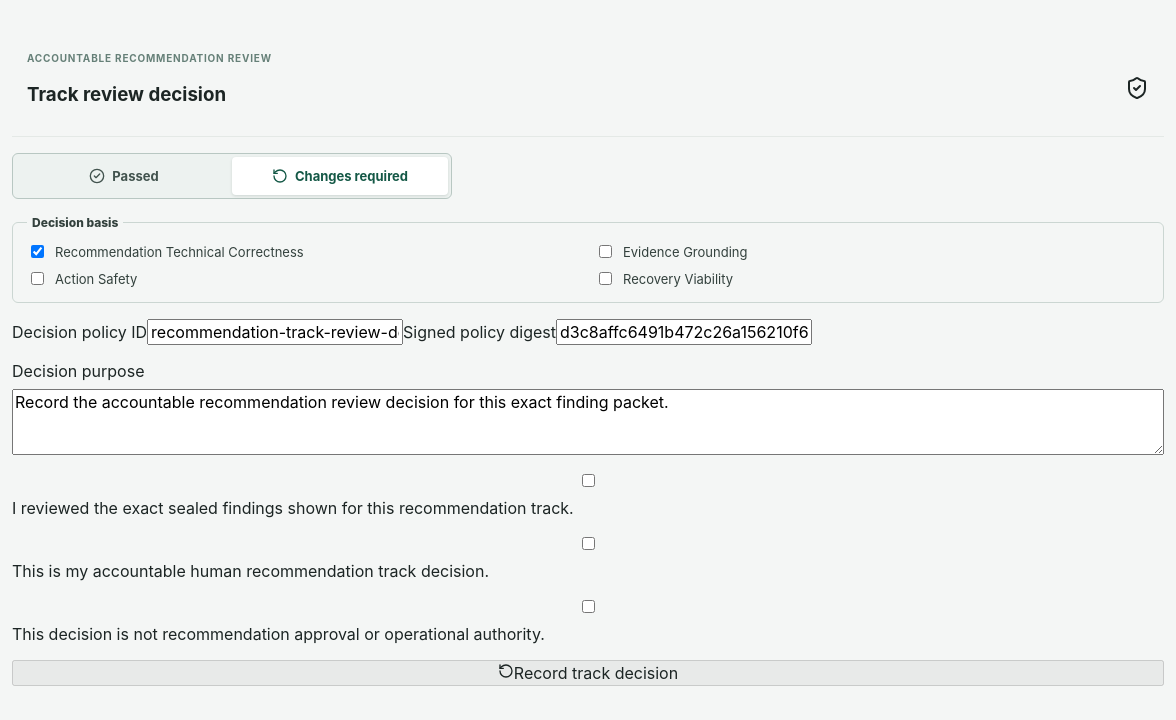
it: RecommendationReviewDecisionPanel › records an accountable recommendation track decision without downstream authority
Step 1. Click the button "Passed" → coordinates (124, 176), box [16,157,232,195]
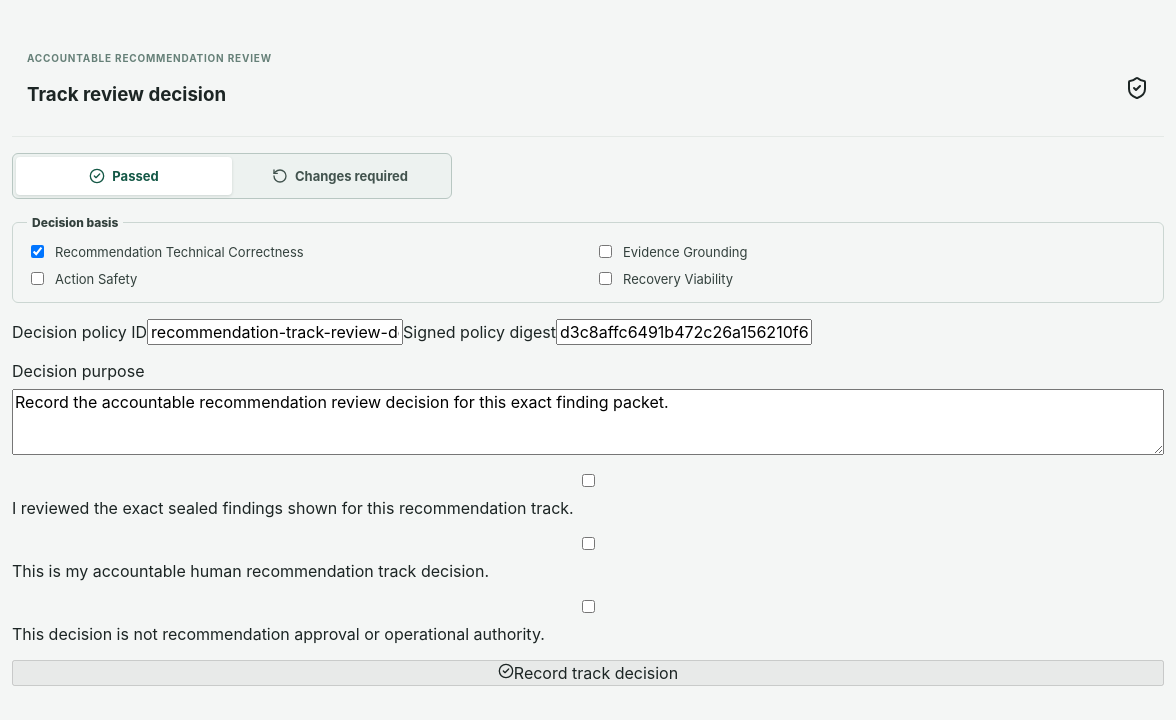
Expected: the button "Record track decision" is disabled, [12,660,1164,686]
Step 2. Click the checkbox labelled "I reviewed the exact sealed findings shown for this recommendation track." → coordinates (588, 481), box [16,474,1161,487]
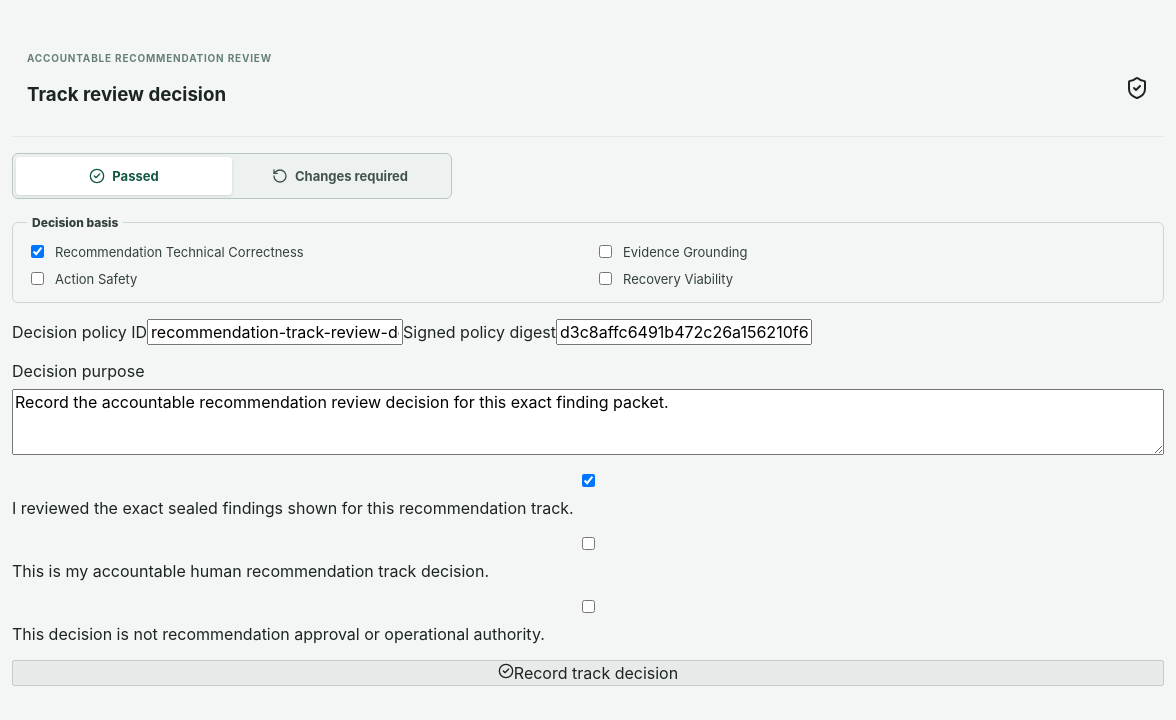
Step 3. Click the checkbox labelled "This is my accountable human recommendation track decision." → coordinates (588, 544), box [16,537,1161,550]
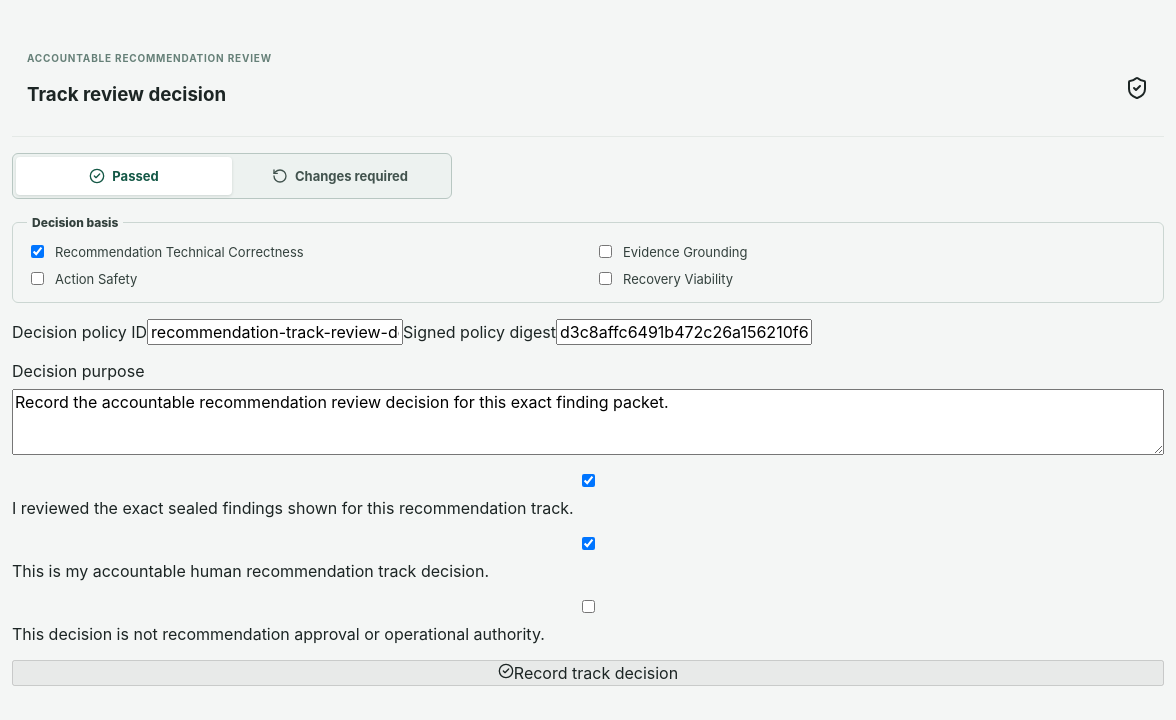
Step 4. Click the checkbox labelled "This decision is not recommendation approval or operational authority." → coordinates (588, 607), box [16,600,1161,613]
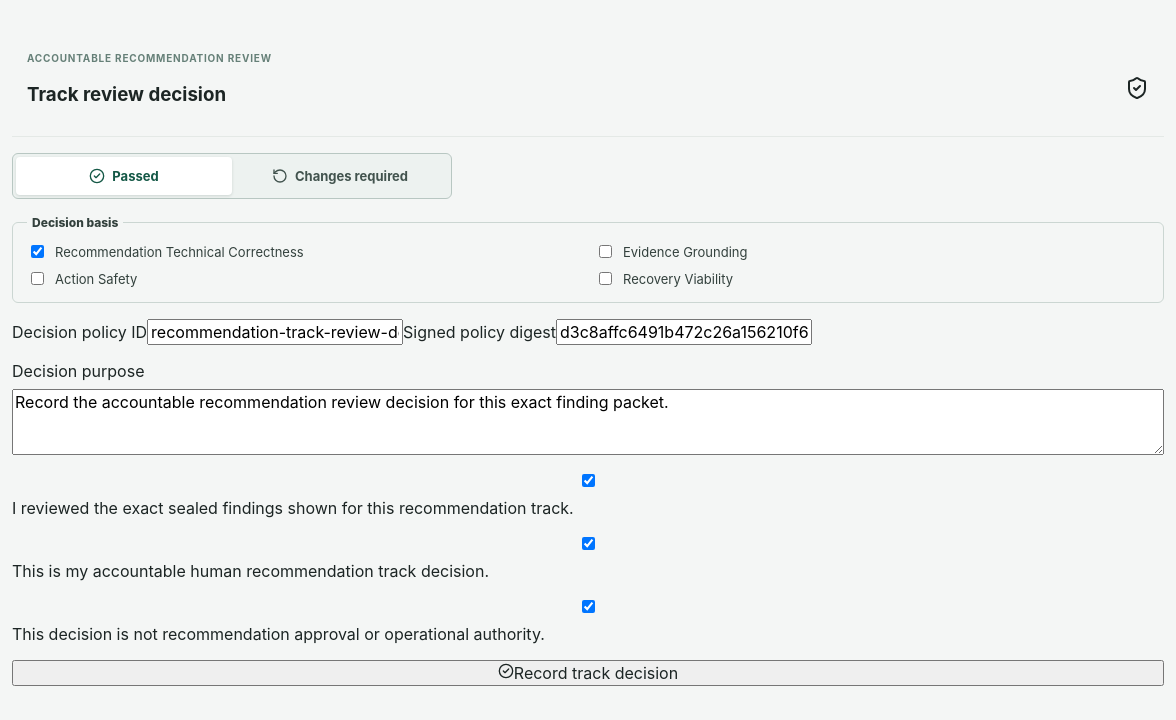
Expected: the button "Record track decision" is enabled
Step 5. Click the button "Record track decision" → coordinates (588, 673), box [12,660,1164,686]
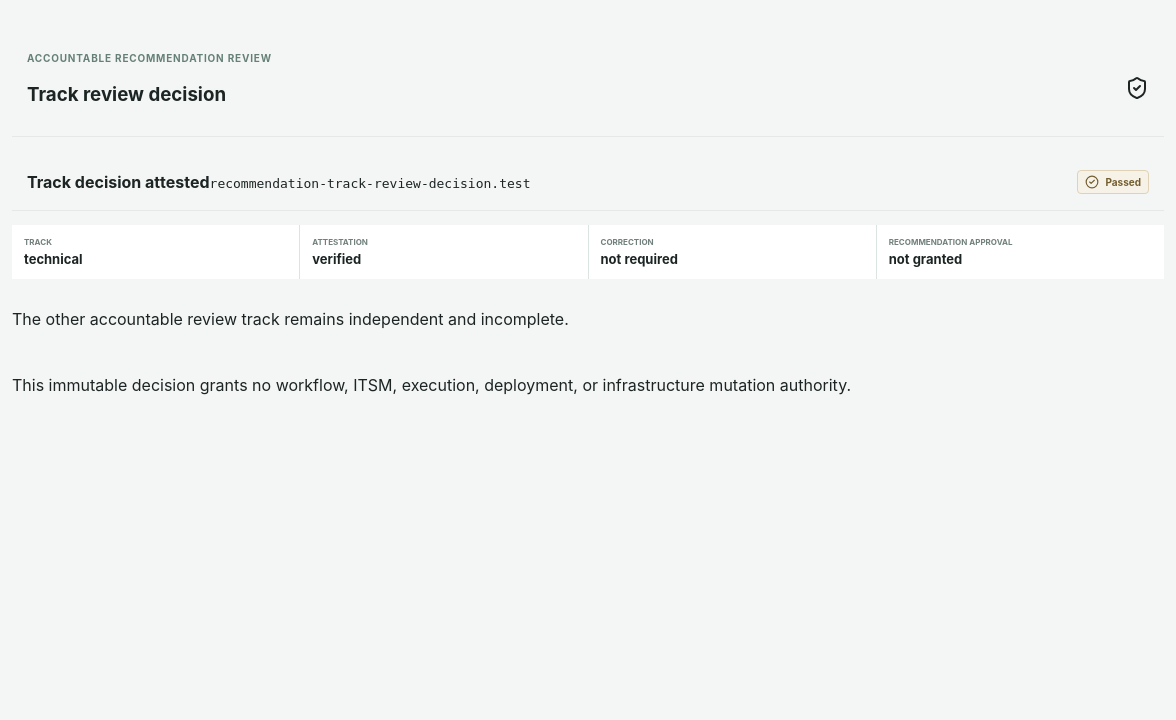
Expected: the text "Track decision attested" is shown, [27,172,210,192]
Expected: the text "not granted" is shown, [889,251,962,267]
Expected: the text "other accountable review track remains" is shown, [12,309,569,329]
